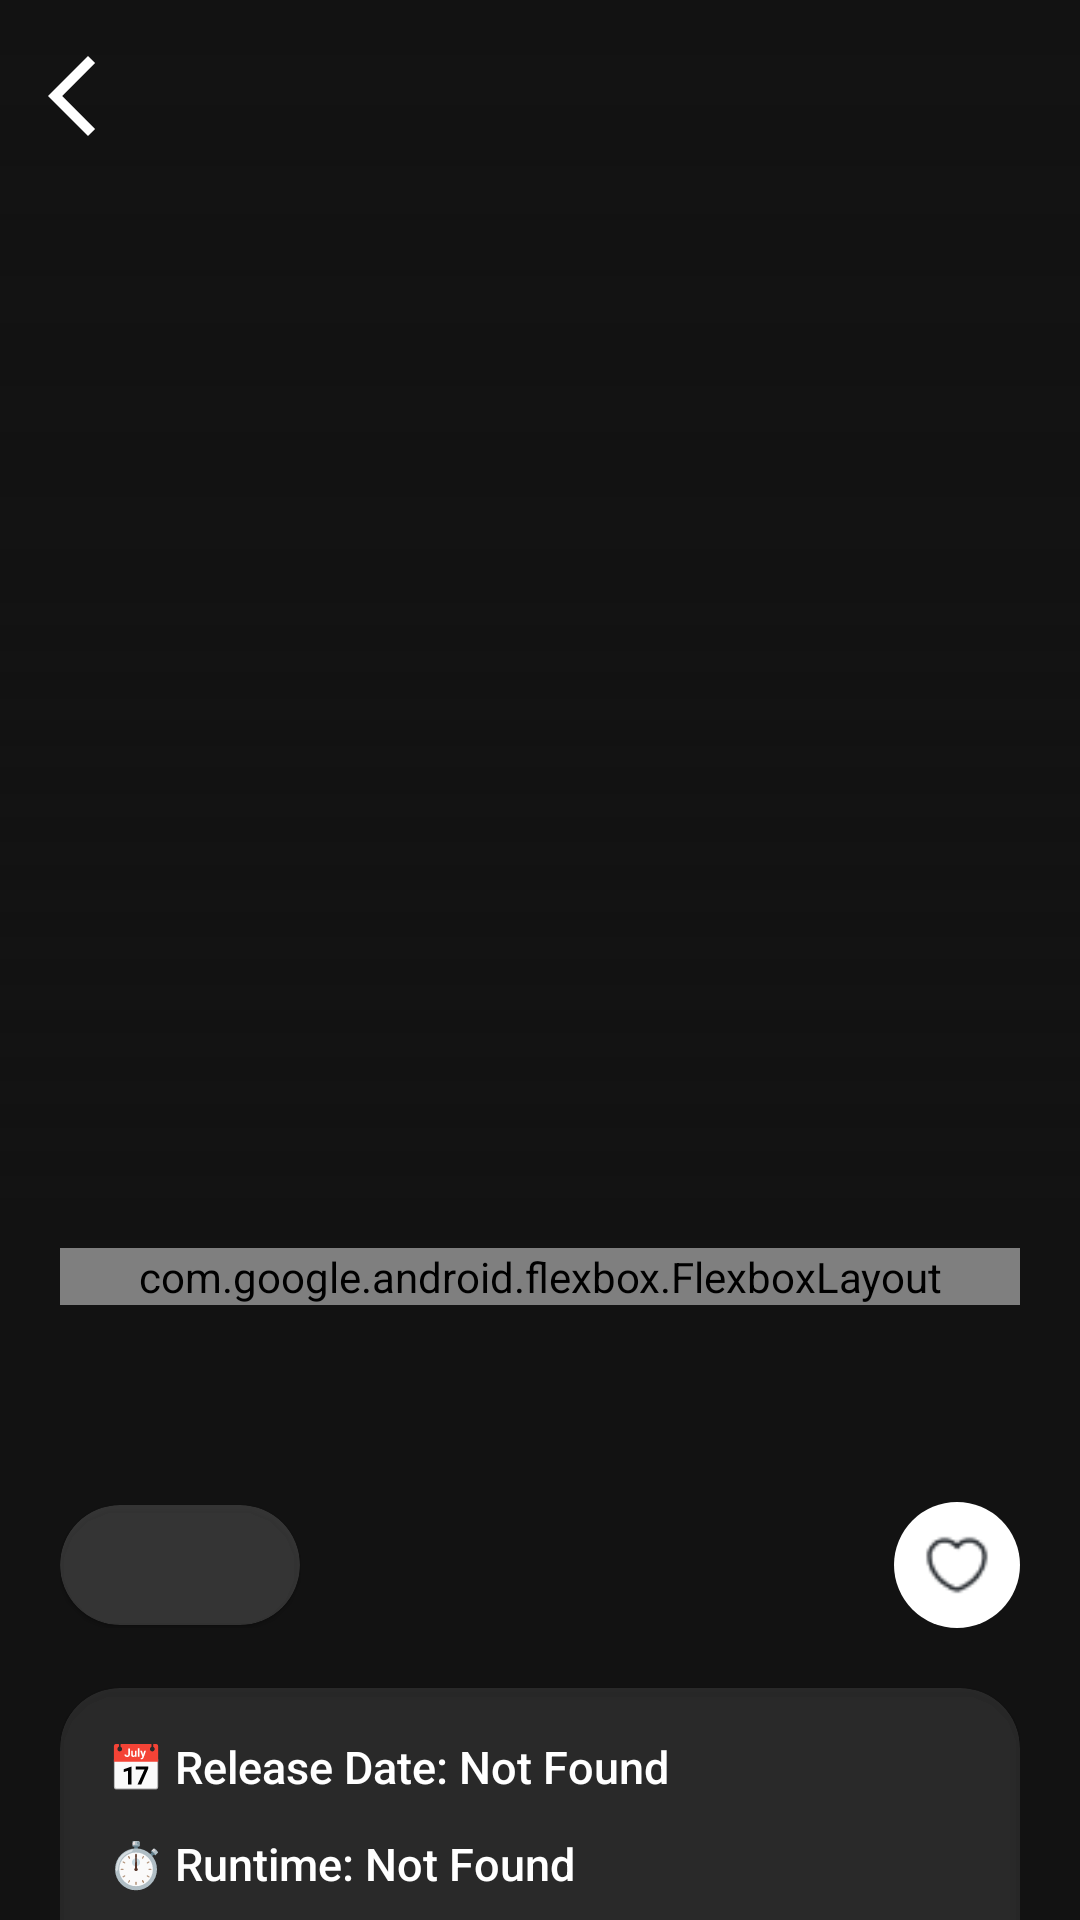

Where icons sit on this 1080w x 1920h app screen, as (x1, y1, x2, y2):
Back: (48, 56, 95, 136)
simple fav: (894, 1502, 1020, 1628)
